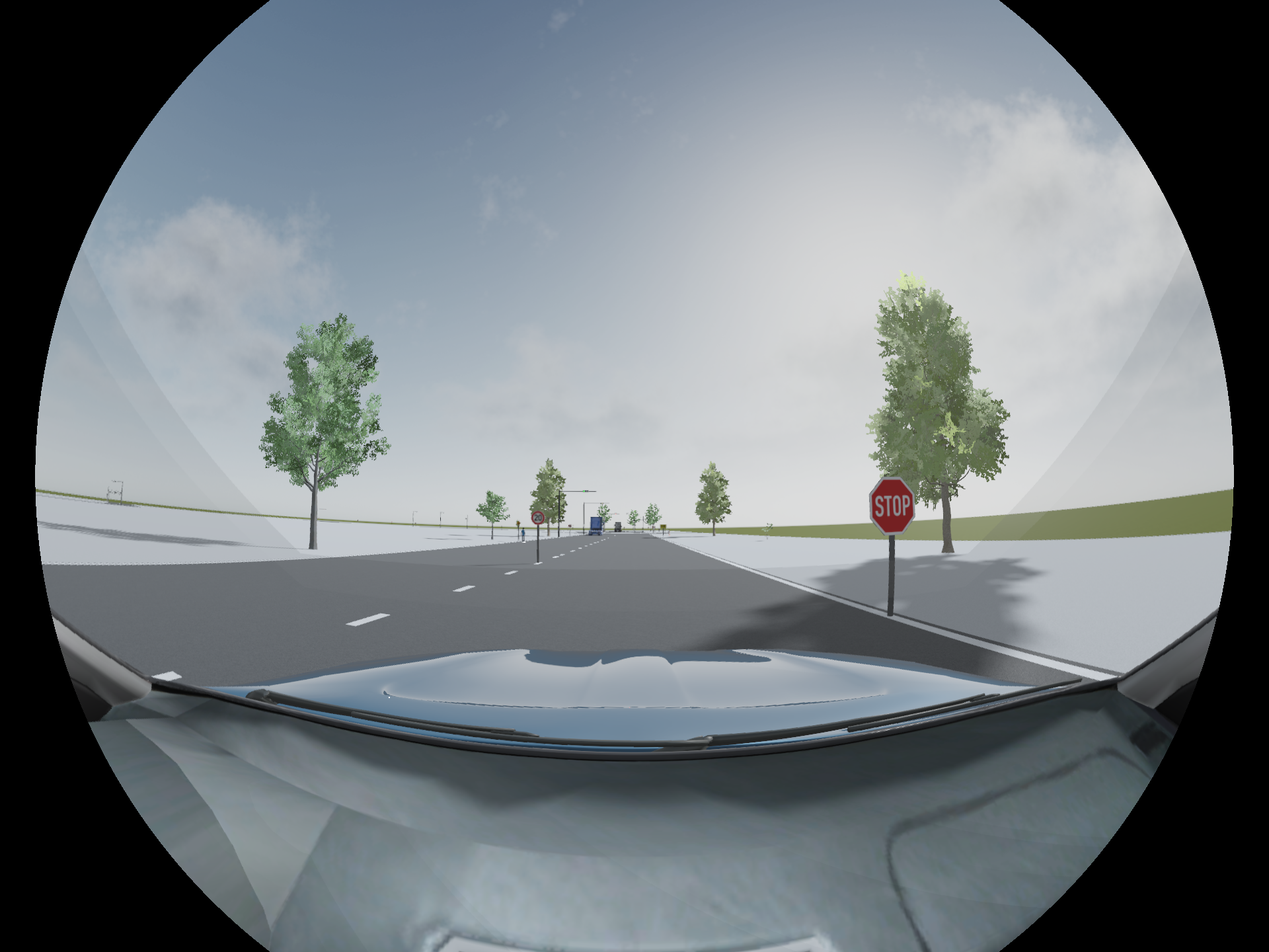Stop: (868, 475, 915, 534)
